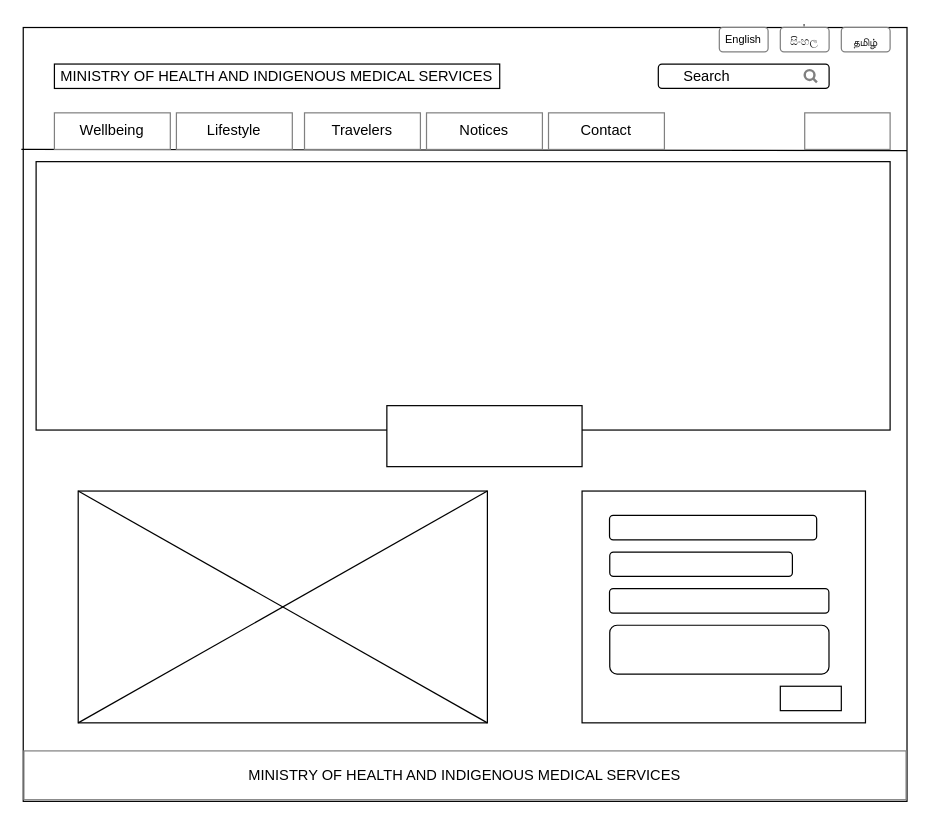
This 930x822 diagram has some shape labels left out. The shapes that lost their labels are listed below. From the top down, each one's box as (x1, y1, x2, y2) in pixels, then its label:
(803, 112, 890, 149): Login
(35, 160, 890, 430): map
(386, 404, 582, 467): Contact Us
